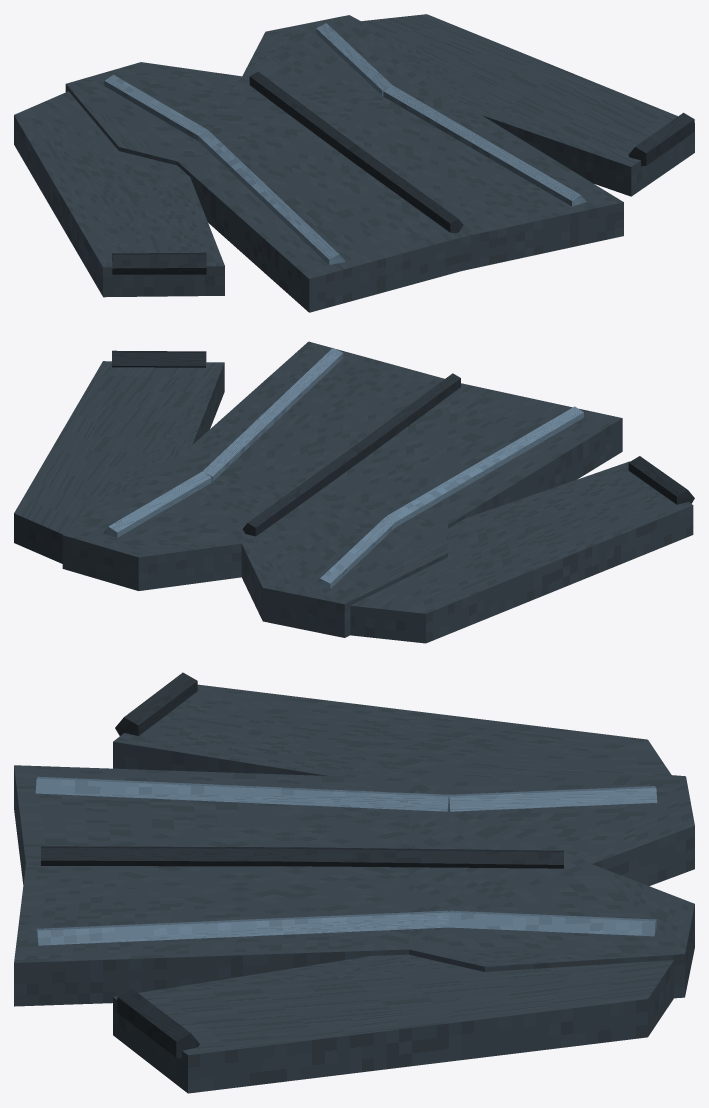
The model's file is wetsuit_top_sleeved.glb.
3 renders of one model, top to bottom at view 1: azimuth 30°, elevation 25°; view 2: azimuth 150°, elevation 25°; view 3: azimuth 270°, elevation 25°, orthographic. The views are drawn at different scales.
Visible parts, largest first — view 1: block_garment body, block_sleeve (×2), block_bonded neoprene seam 1 (×2), block_cuff 0 (×2), block_bonded neoprene seam 0 (×2), block_front closure 1, block_front closure 0; view 2: block_garment body, block_sleeve (×2), block_bonded neoprene seam 1 (×2), block_bonded neoprene seam 0 (×2), block_cuff 0 (×2), block_front closure 0, block_front closure 1; view 3: block_garment body, block_sleeve (×2), block_bonded neoprene seam 1 (×2), block_bonded neoprene seam 0 (×2), block_front closure 0, block_front closure 1, block_cuff 0 (×2).
Part boxes in pixels (left/top/right/bottom): block_garment body: left=65, top=15, right=623, bottom=312; block_sleeve (×2): left=14, top=14, right=694, bottom=297; block_bonded neoprene seam 1 (×2): left=198, top=85, right=586, bottom=264; block_cuff 0 (×2): left=112, top=112, right=694, bottom=274; block_bonded neoprene seam 0 (×2): left=104, top=23, right=392, bottom=140; block_front closure 1: left=352, top=148, right=463, bottom=232; block_front closure 0: left=249, top=72, right=360, bottom=161; block_garment body: left=62, top=341, right=622, bottom=637; block_sleeve (×2): left=14, top=361, right=693, bottom=643; block_bonded neoprene seam 1 (×2): left=202, top=348, right=583, bottom=526; block_bonded neoprene seam 0 (×2): left=103, top=471, right=395, bottom=588; block_cuff 0 (×2): left=112, top=350, right=694, bottom=504; block_front closure 0: left=242, top=445, right=363, bottom=536; block_front closure 1: left=356, top=373, right=460, bottom=458; block_garment body: left=14, top=760, right=694, bottom=1006; block_sleeve (×2): left=113, top=684, right=673, bottom=1093; block_bonded neoprene seam 1 (×2): left=35, top=776, right=448, bottom=945; block_bonded neoprene seam 0 (×2): left=449, top=786, right=657, bottom=936; block_front closure 0: left=292, top=847, right=564, bottom=868; block_front closure 1: left=41, top=846, right=291, bottom=866; block_cuff 0 (×2): left=115, top=672, right=199, bottom=1058.
Bounding box in the file's own units: 0.7445 × 0.0571 × 0.5761.
Materials: 1 (1 with a texture image).
